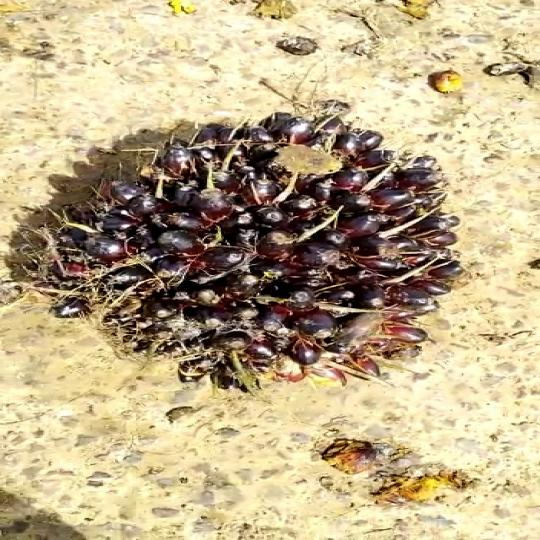mentah: (41, 73, 473, 373)
